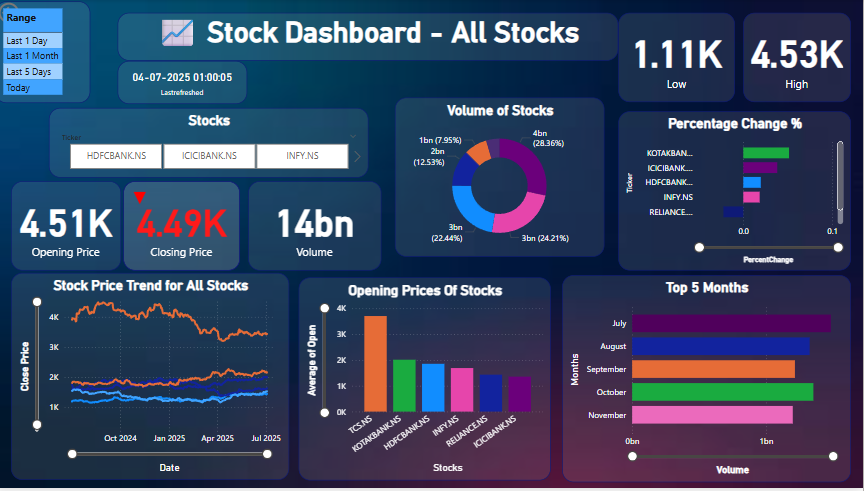

The dashboard page shown, as its layout file describes it:
{"tool":"powerbi","page":{"name":"Page 1","canvas":[1280,720],"ordinal":0},"visuals":[{"type":"lineChart","fields":{"Y":["Max(live_stock stock_data (3).Close)"],"Series":["live_stock stock_data (3).Ticker"],"Category":["live_stock stock_data (3).Datetime.Variation.Date Hierarchy.Year","live_stock stock_data (3).Datetime.Variation.Date Hierarchy.Month","live_stock stock_data (3).Datetime.Variation.Date Hierarchy.Day"]},"box":[23.7,403.8,410.6,305.8],"z":0},{"type":"actionButton","box":[0,0,100,40],"z":1000},{"type":"clusteredBarChart","title":"Top 5  Months","fields":{"Y":["Sum(live_stock stock_data (3).Volume)"],"Category":["live_stock stock_data (3).Datetime.Variation.Date Hierarchy.Month"]},"box":[836.4,407.2,425.8,305.8],"z":2000},{"type":"donutChart","title":"Volume of Stocks","fields":{"Y":["Sum(live_stock stock_data (3).Volume)"],"Category":["live_stock stock_data (3).Ticker"]},"box":[589.7,145.3,309.2,234.9],"z":3000},{"type":"slicer","title":"Stocks","fields":{"Values":["live_stock stock_data (3).Ticker"]},"box":[79.4,160.5,471.4,103.1],"z":4000},{"type":"card","fields":{"Values":["DateRangeFilter.OpenFiltered"]},"box":[23.7,268.7,162.2,131.8],"z":5000},{"type":"card","fields":{"Values":["DateRangeFilter.HighFiltered"]},"box":[1103.4,20.3,158.8,131.8],"z":6000},{"type":"card","fields":{"Values":["DateRangeFilter.LowFiltered"]},"box":[919.2,20.3,172.3,131.8],"z":7000},{"type":"card","fields":{"Values":["DateRangeFilter.CloseFiltered"]},"box":[189.2,268.7,172.3,131.8],"z":8000},{"type":"card","fields":{"Values":["DateRangeFilter.VolumeFiltered"]},"box":[373.4,268.7,196,131.8],"z":9000},{"type":"lineClusteredColumnComboChart","title":"Opening Prices Of Stocks","fields":{"Category":["live_stock stock_data (3).Ticker"],"Y":["Avg(live_stock stock_data (3).Open)"]},"box":[447.8,410.6,371.7,299.1],"z":10000},{"type":"multiRowCard","fields":{"Values":["live_stock stock_data (3).TrendIcon"]},"box":[189.2,268.7,172.3,131.8],"z":11000},{"type":"clusteredBarChart","title":"Percentage Change %","fields":{"Y":["live_stock stock_data (3).PercentChange"],"Category":["live_stock stock_data (3).Ticker"]},"box":[919.2,165.6,343,234.9],"z":12000},{"type":"card","fields":{"Values":["live_stock stock_data (3).Lastrefreshed"]},"box":[180.3,90.9,191.5,63.8],"z":13000},{"type":"card","fields":{"Values":["live_stock stock_data (3).MainTitle"]},"box":[180.8,20.3,738.4,71],"z":14000},{"type":"tableEx","fields":{"Values":["DateRangeFilter.Range"]},"box":[0,3.2,140.4,150],"z":15000}]}

Visuals, with their boxes in screenshot pixels (x1, y1, x2, y2), scaled from the page's 1280x720 canvas onto the 864x491 screenshot:
lineChart - Max(live_stock stock_data (3).Close) x live_stock stock_data (3).Ticker: bbox=[16, 275, 293, 484]
actionButton: bbox=[0, 0, 68, 27]
"Top 5  Months" clusteredBarChart: bbox=[565, 278, 852, 486]
"Volume of Stocks" donutChart: bbox=[398, 99, 607, 259]
"Stocks" slicer: bbox=[54, 109, 372, 180]
card - DateRangeFilter.OpenFiltered: bbox=[16, 183, 125, 273]
card - DateRangeFilter.HighFiltered: bbox=[745, 14, 852, 104]
card - DateRangeFilter.LowFiltered: bbox=[620, 14, 737, 104]
card - DateRangeFilter.CloseFiltered: bbox=[128, 183, 244, 273]
card - DateRangeFilter.VolumeFiltered: bbox=[252, 183, 384, 273]
"Opening Prices Of Stocks" lineClusteredColumnComboChart: bbox=[302, 280, 553, 484]
multiRowCard - live_stock stock_data (3).TrendIcon: bbox=[128, 183, 244, 273]
"Percentage Change %" clusteredBarChart: bbox=[620, 113, 852, 273]
card - live_stock stock_data (3).Lastrefreshed: bbox=[122, 62, 251, 105]
card - live_stock stock_data (3).MainTitle: bbox=[122, 14, 620, 62]
tableEx - DateRangeFilter.Range: bbox=[0, 2, 95, 104]
